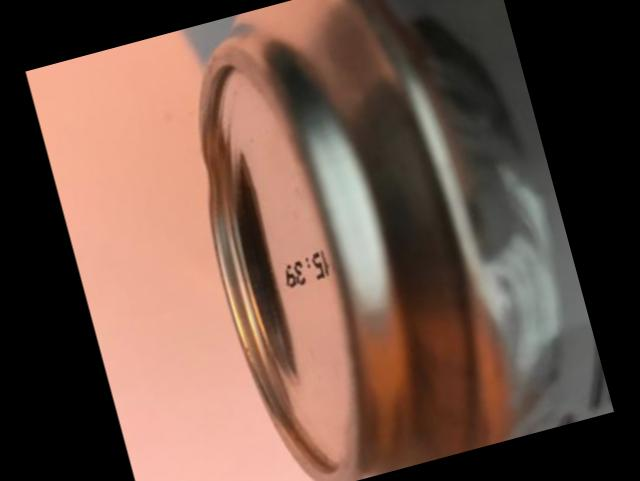metal: (199, 0, 613, 481)
